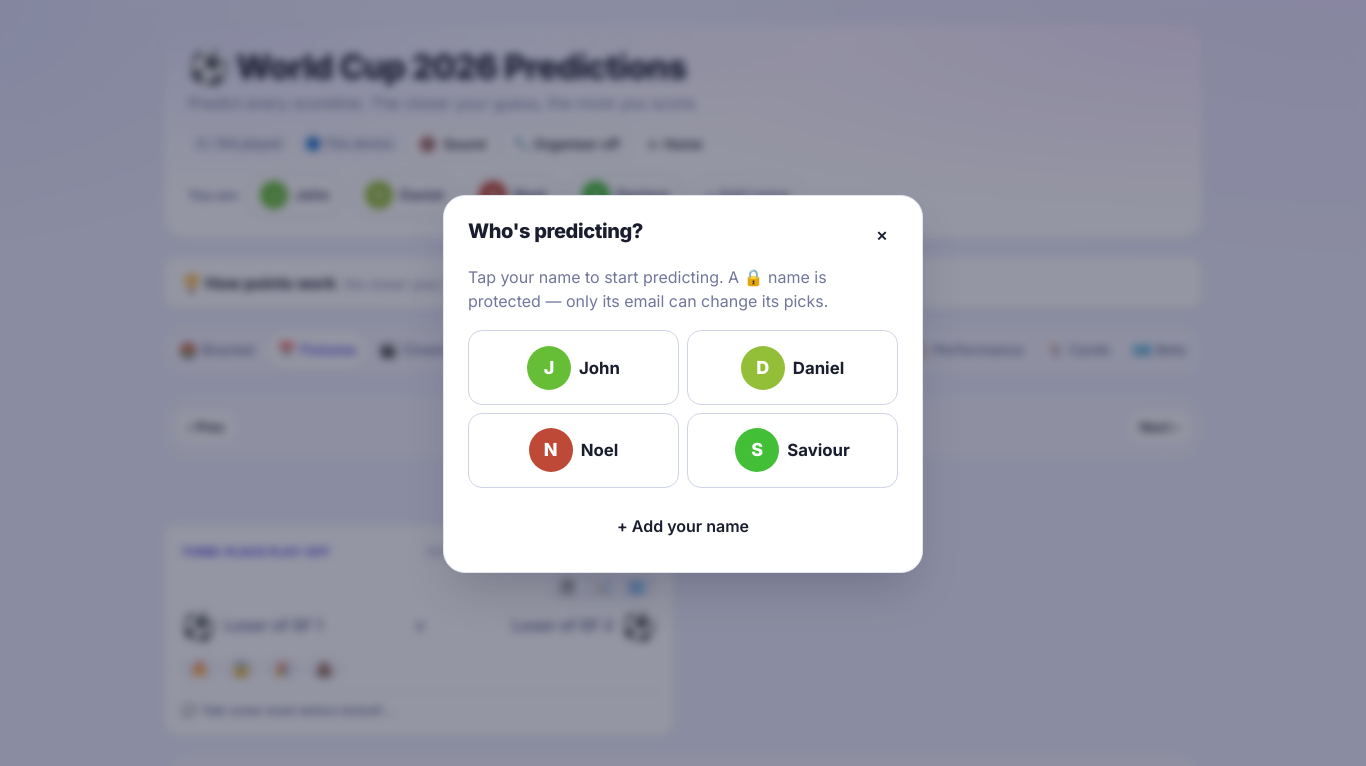
Scenario: WorldCupPage › seeds the full board and switches between sections
The width and height of the screenshot is (1366, 766).
Check: the heading "⚽ World Cup 2026 Predictions" is shown, box [188, 47, 699, 87]
Check: the button "J John" is shown, box [468, 330, 679, 405]
Press Escape
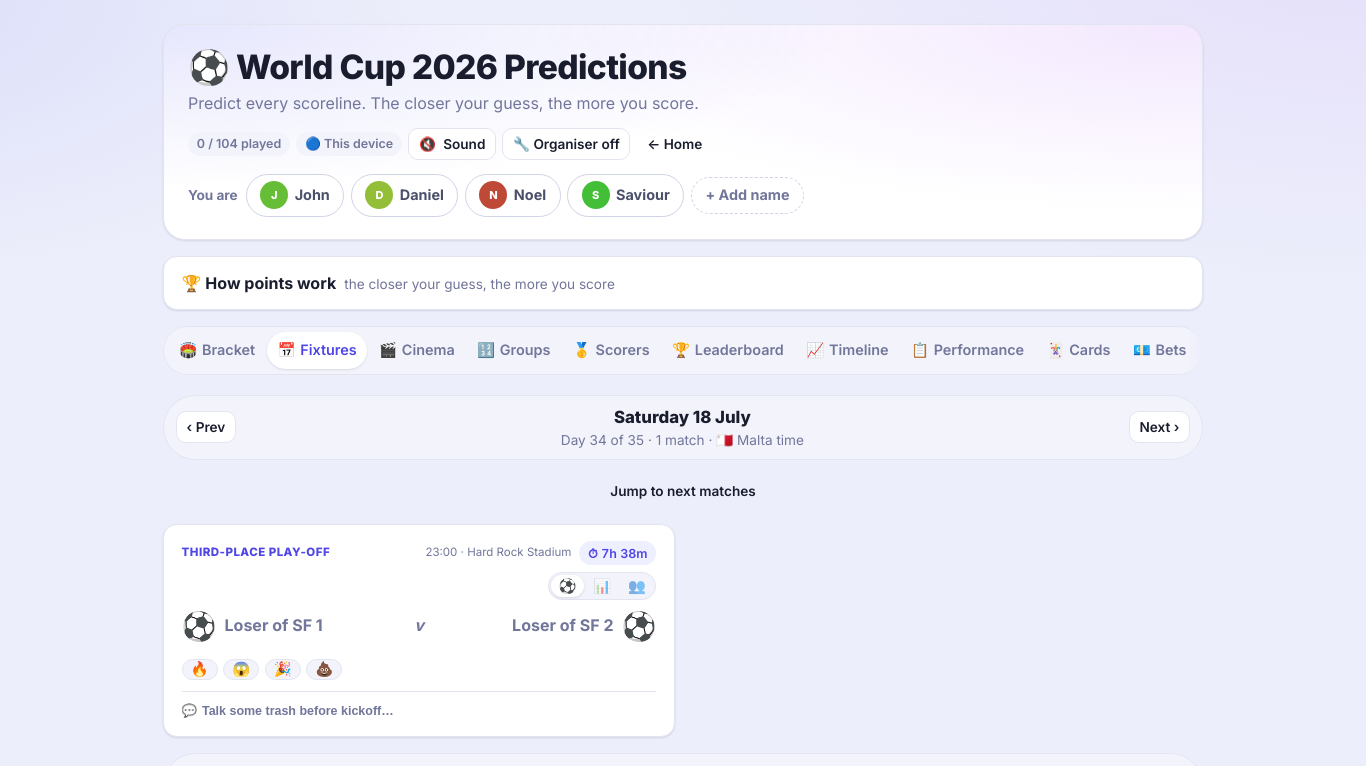
Click the tab "🔢 Groups".
click(514, 350)  # box [467, 332, 561, 369]
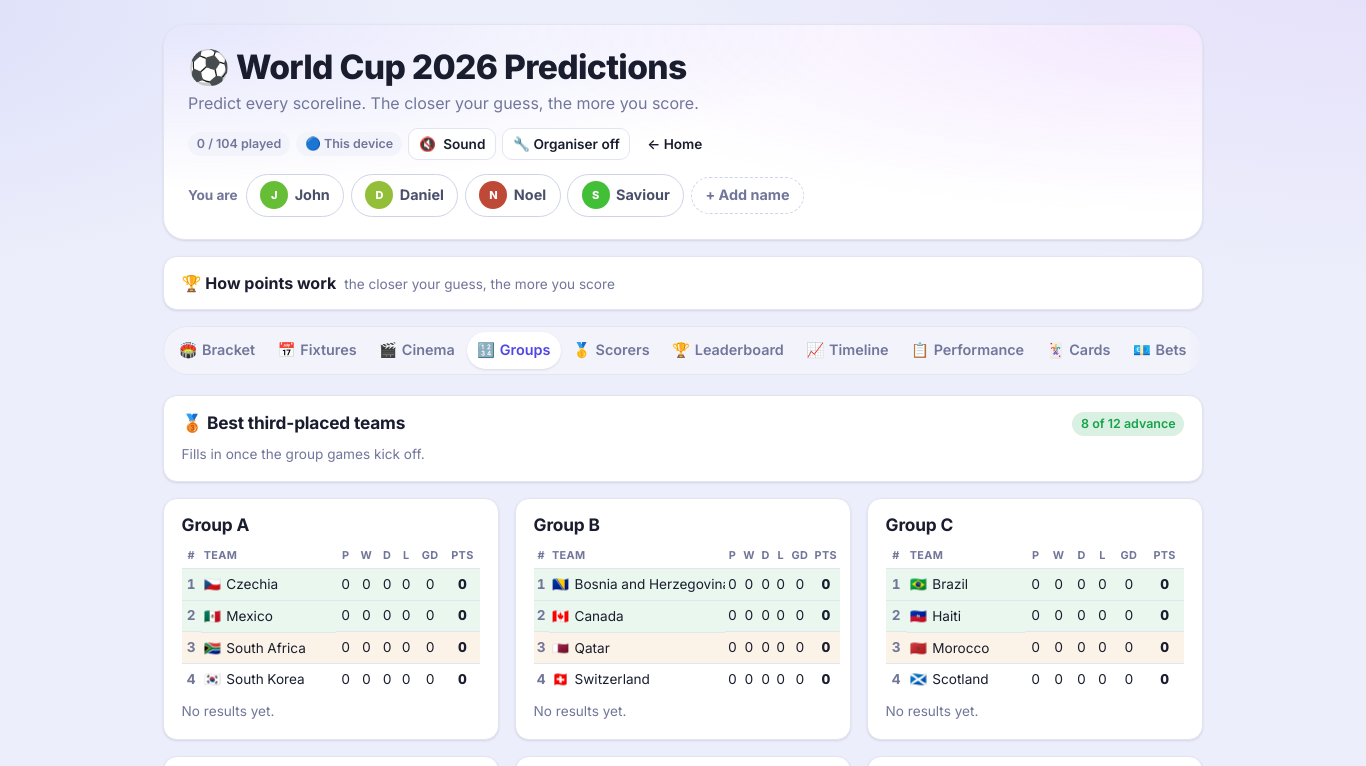
Check: the heading "Group A" is shown, box [182, 515, 249, 535]
Click the tab "🏟️ Bracket".
click(217, 350)  # box [169, 332, 266, 369]
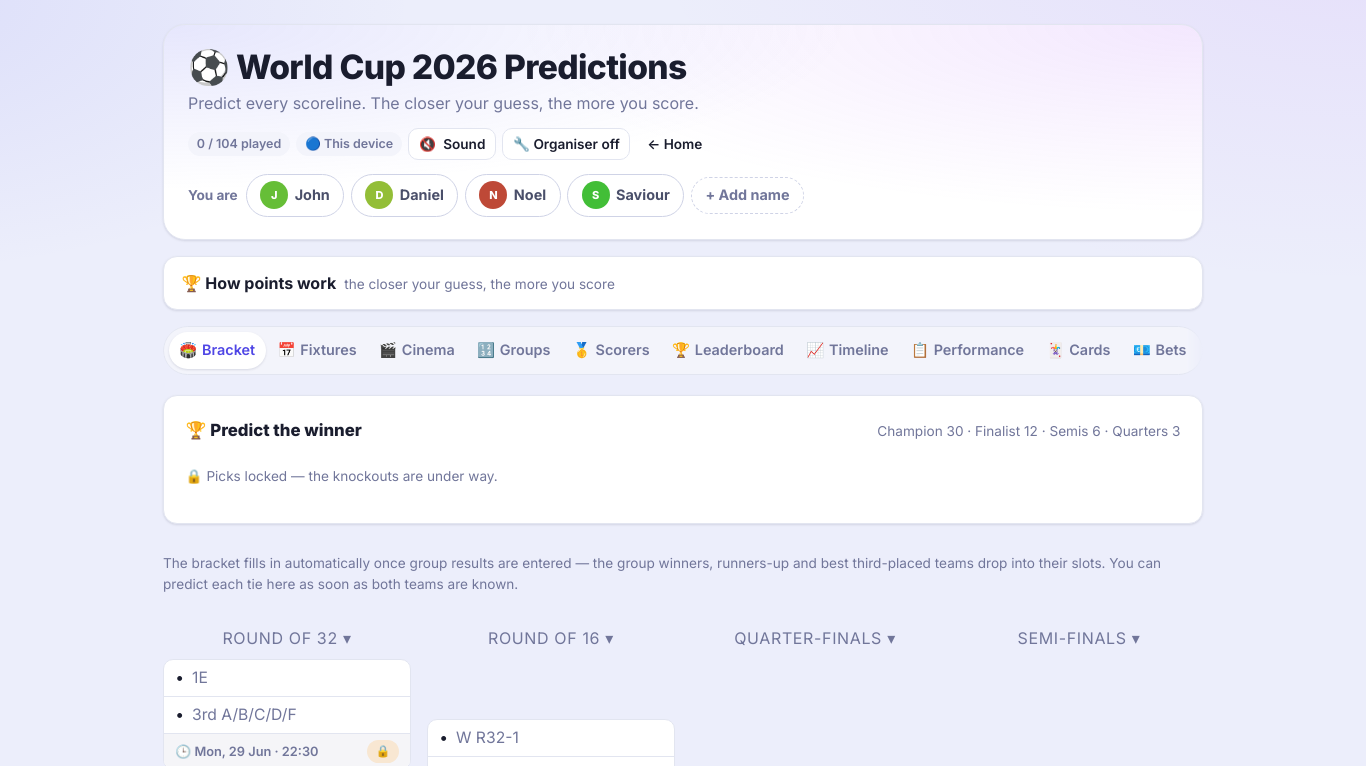
Click the tab "🏆 Leaderboard".
click(728, 350)  # box [662, 332, 794, 369]
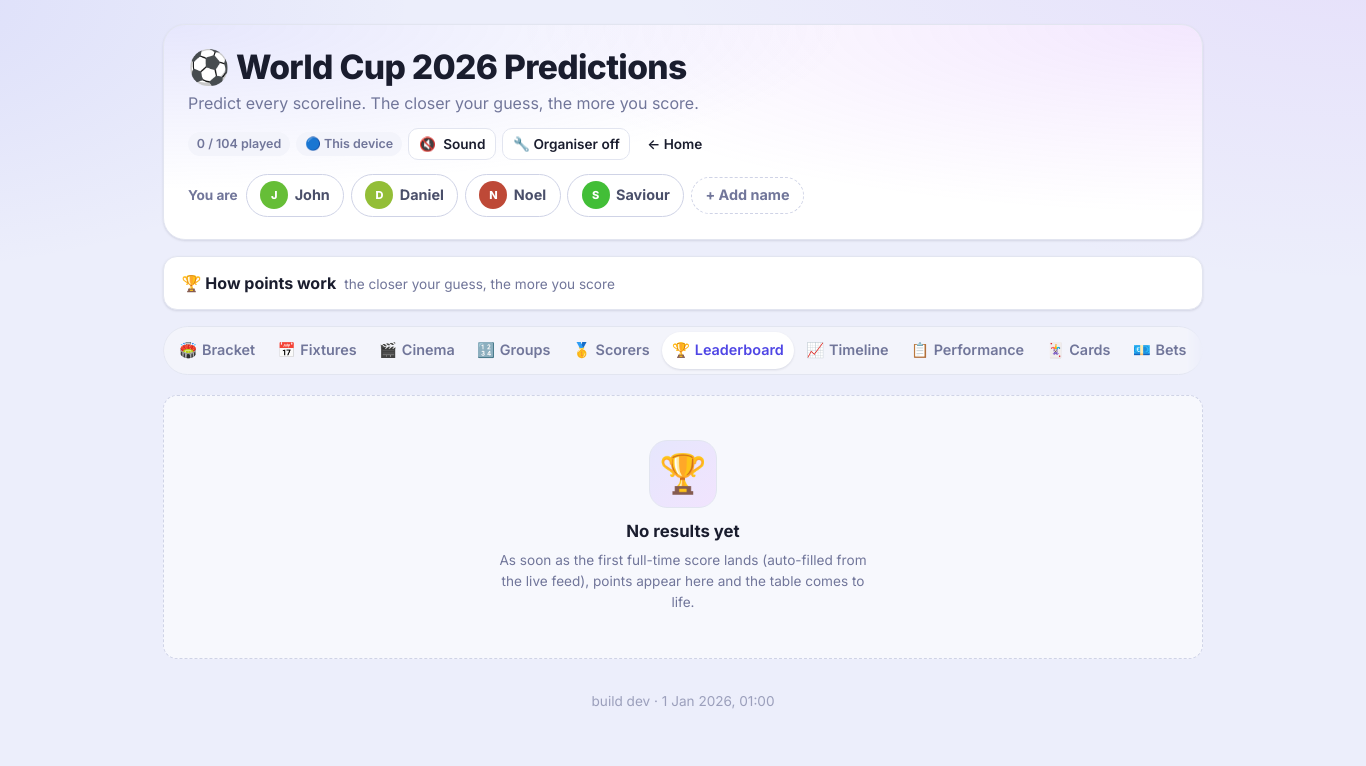
Check: the text "No results yet" is shown, box [626, 518, 740, 544]
